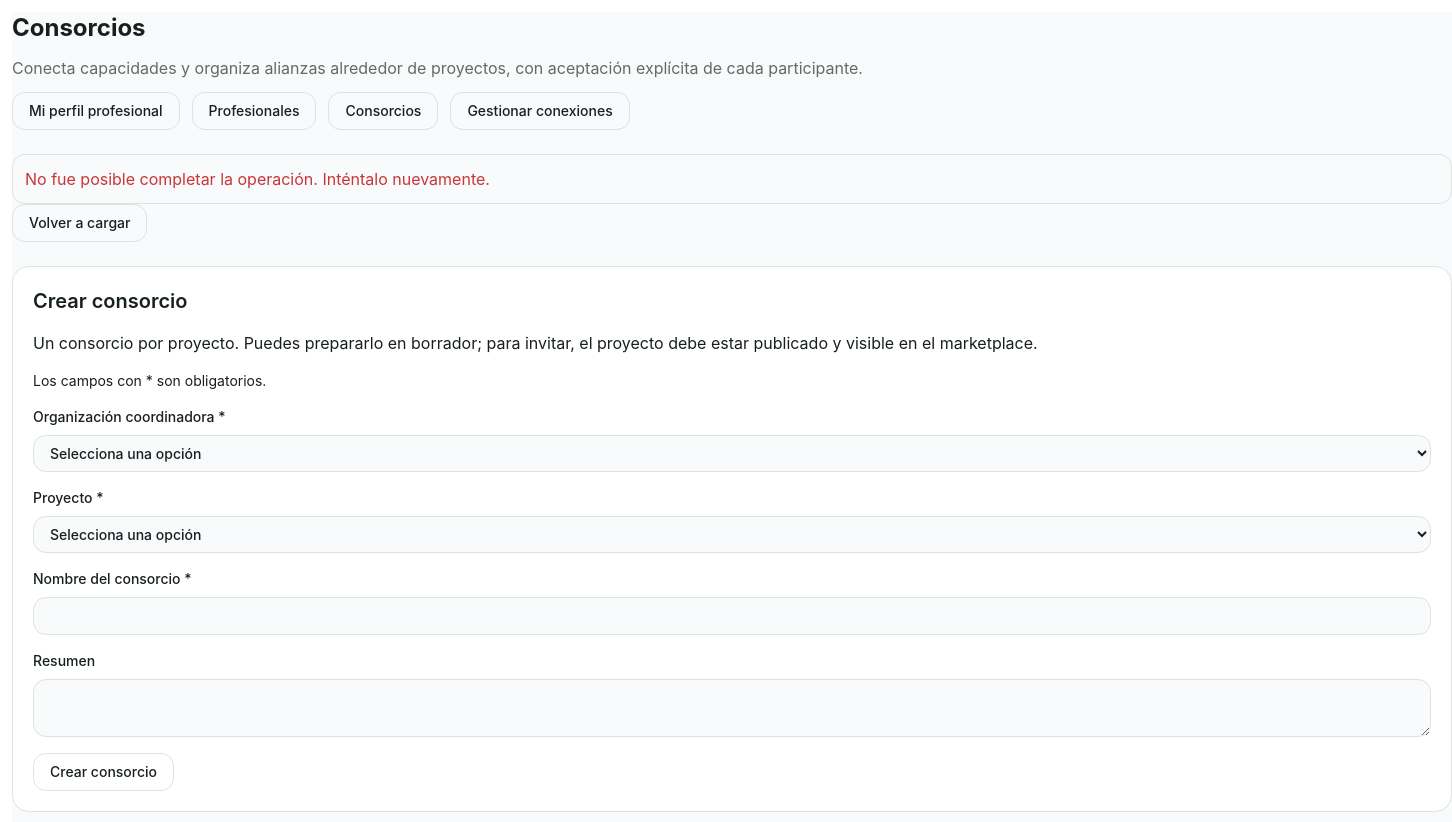
Scenario: lista de consorcios › muestra un error recuperable, no un estado vacío, ante {"title":"private database text"}
Check: the message shows "No fue posible completar la operación.", box [25,169,490,189]
Check: the text "No hay resultados." is not shown
Click the button "Volver a cargar".
click(80, 223)  # box [12,204,147,242]
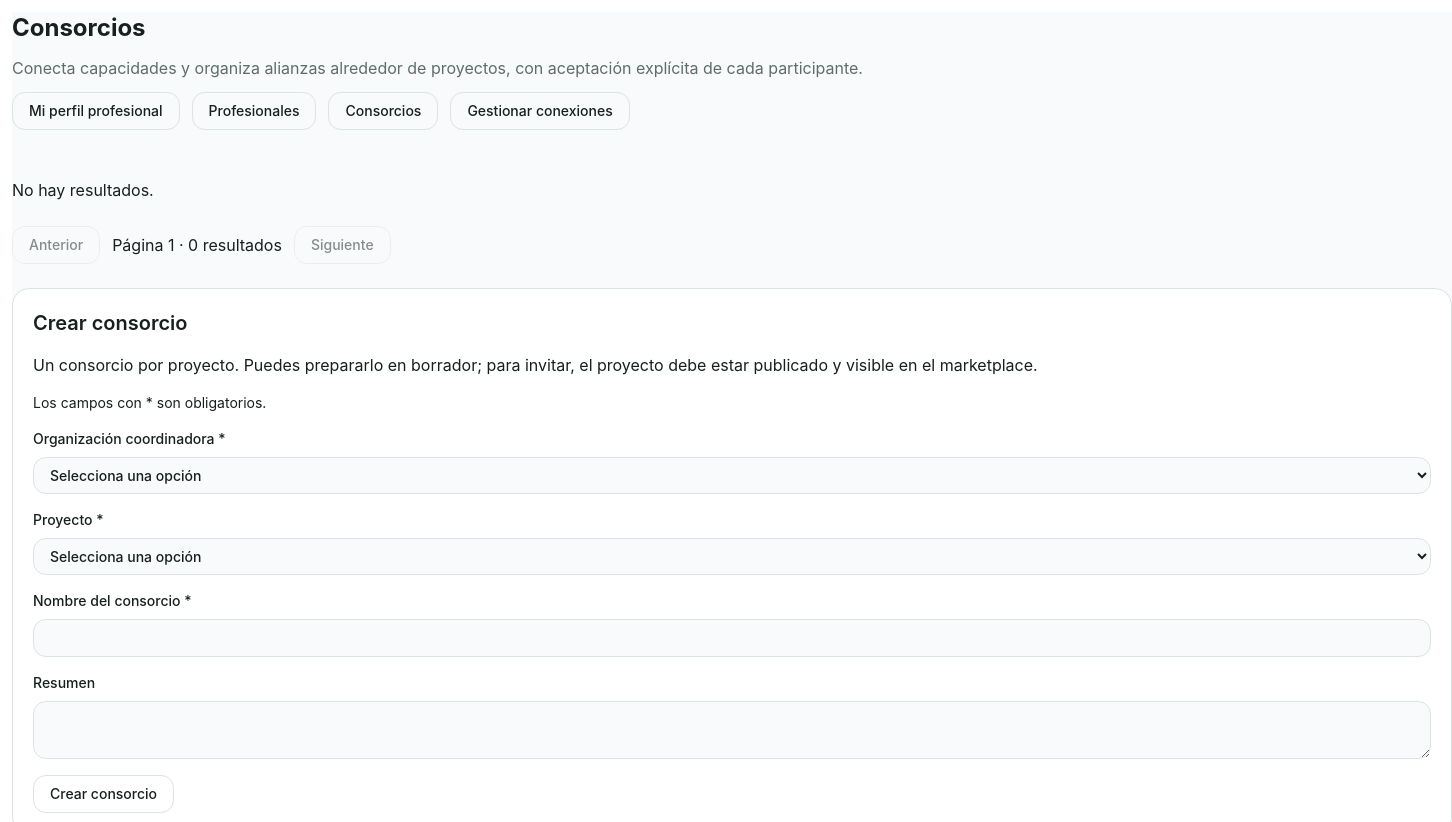
Check: the text "No hay resultados." is shown, box [12,180,154,200]
Check: the message "No fue posible completar la operación. Inténtalo nuevamente." is gone
